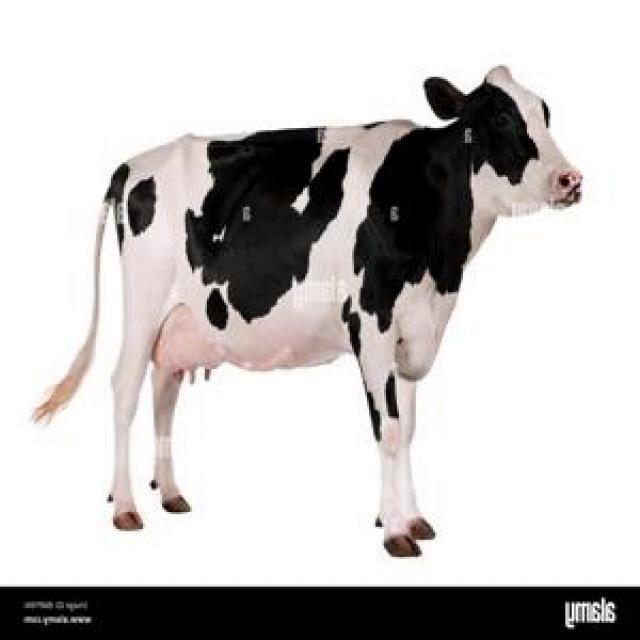COW: (38, 66, 582, 556)
